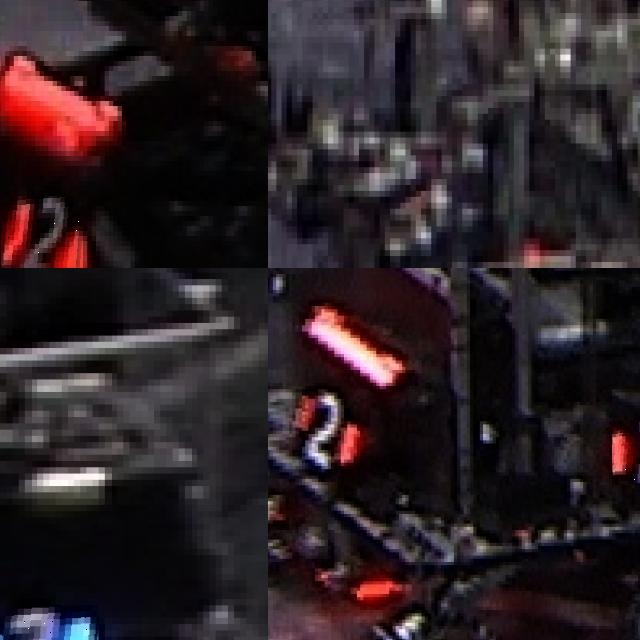B2: (0, 605, 101, 640)
R2: (0, 196, 87, 268), (289, 386, 363, 469), (612, 408, 640, 485)
